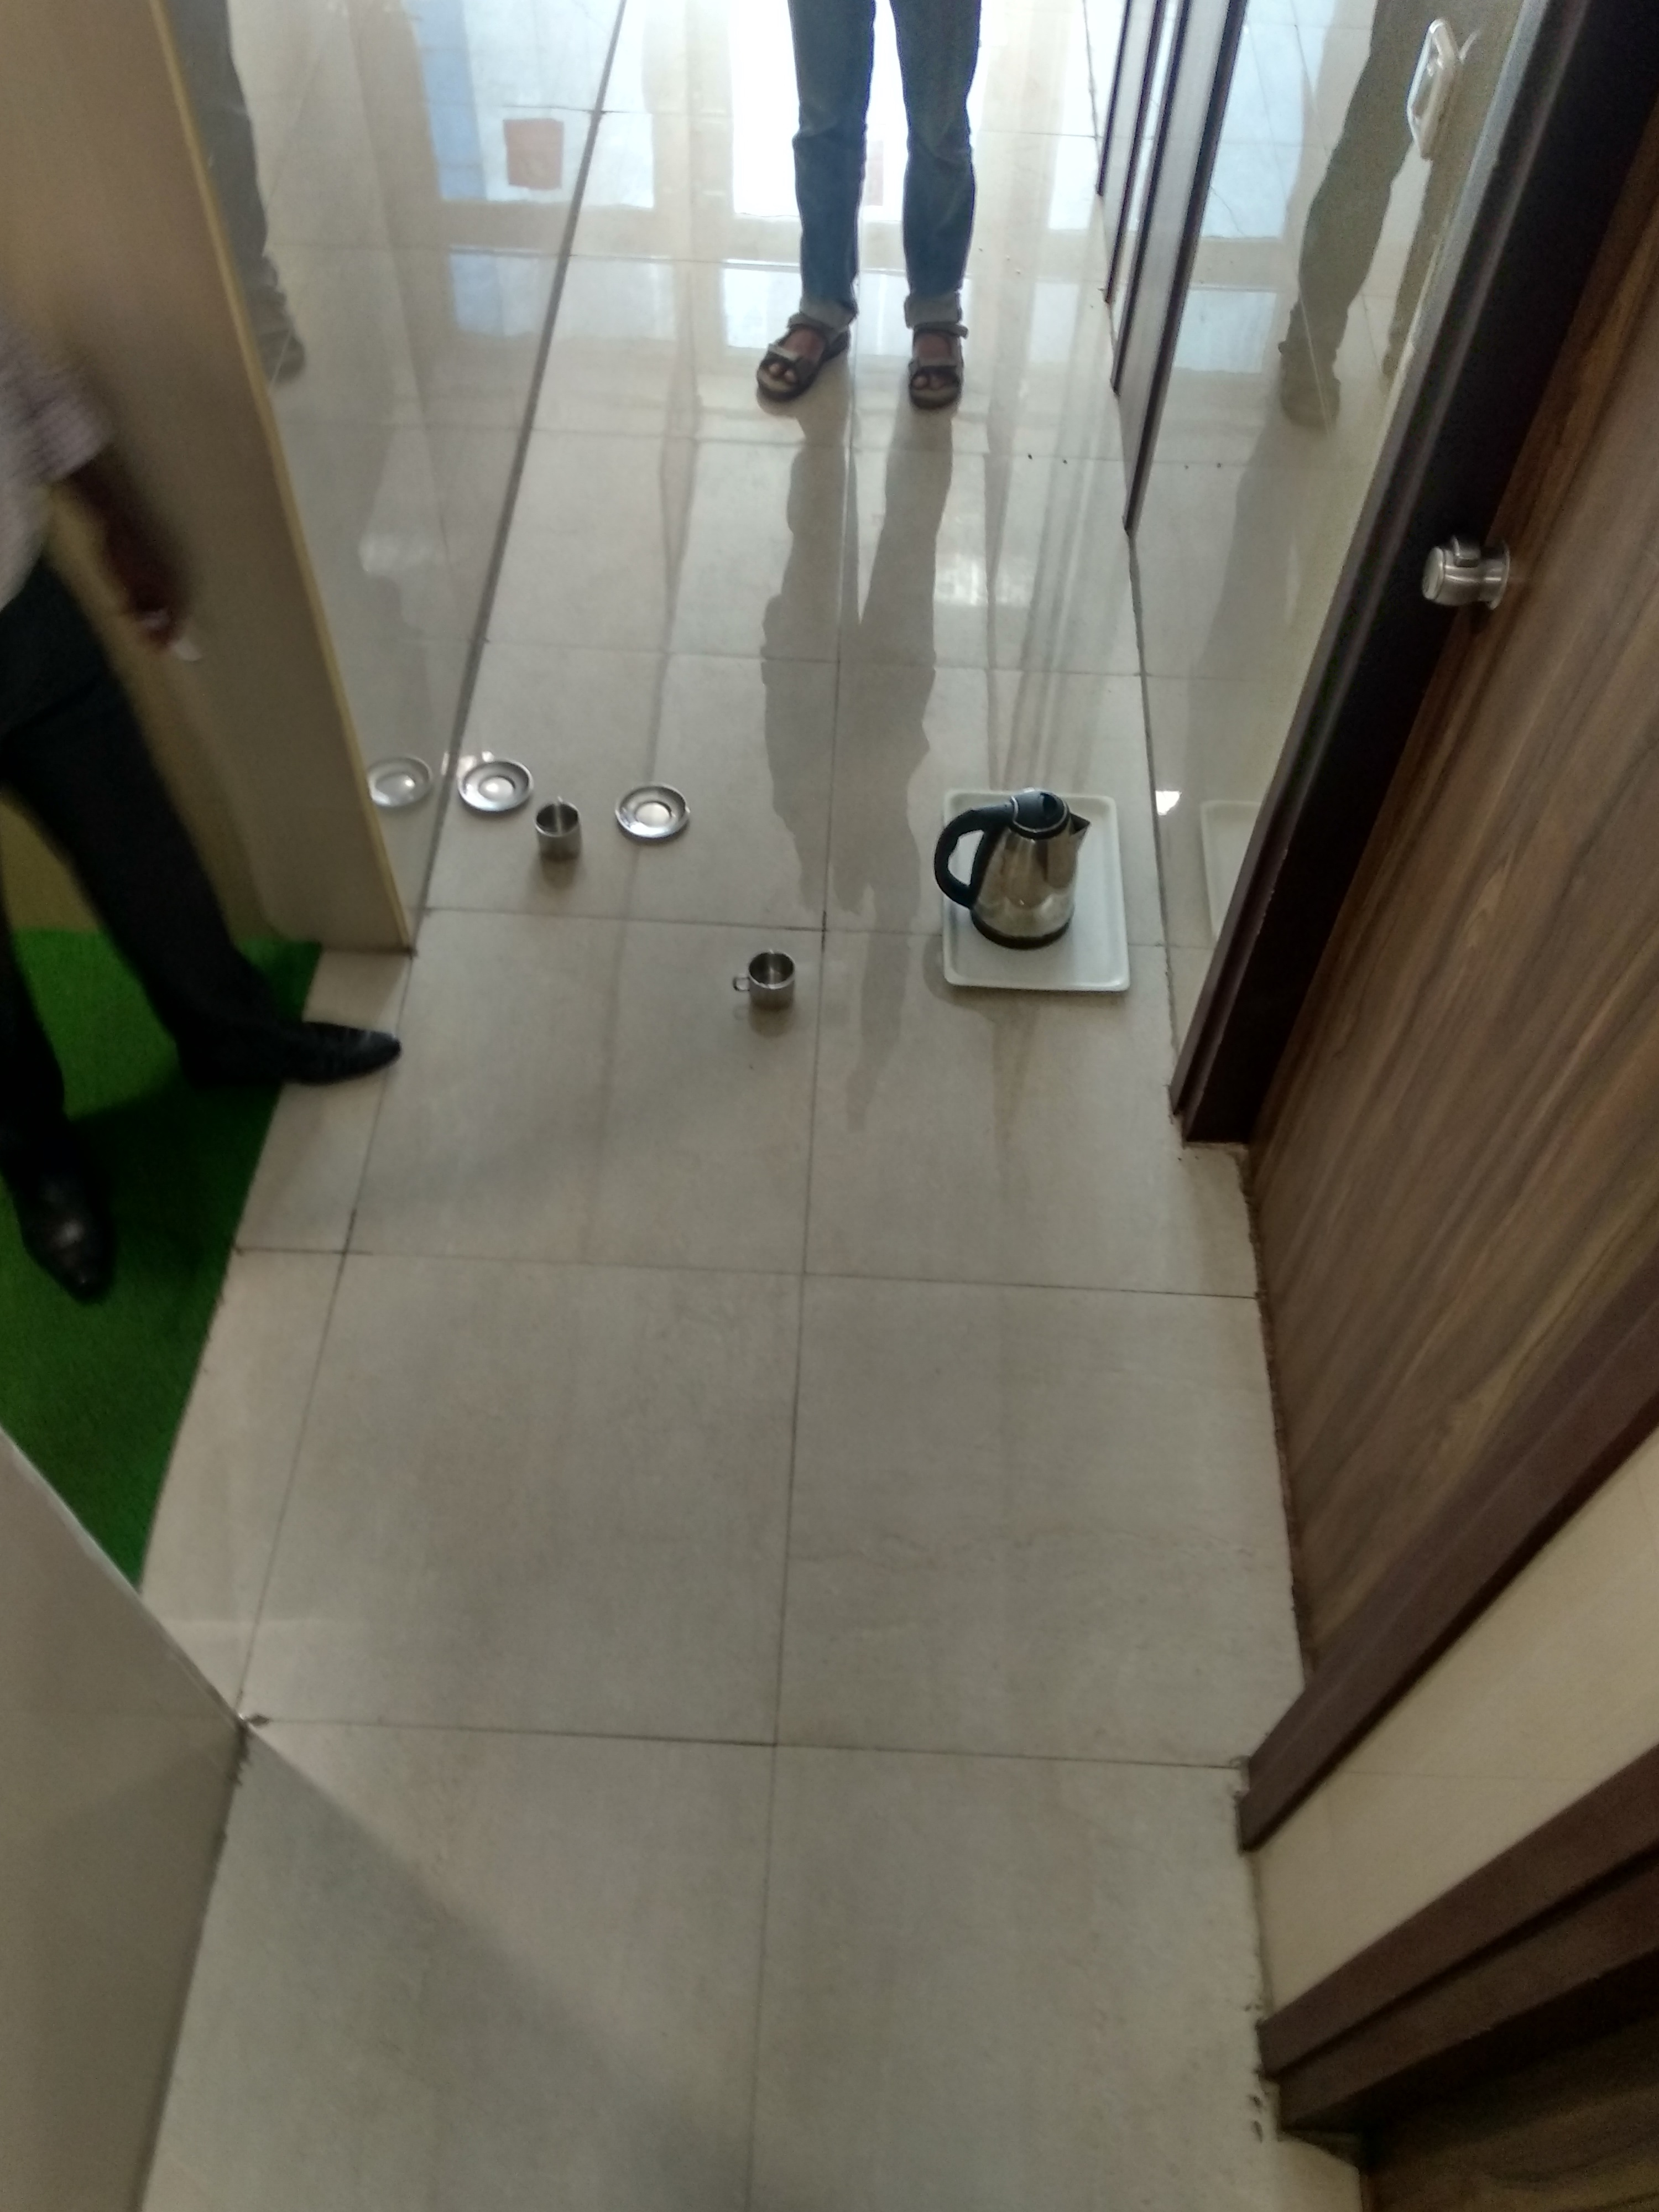CUP: (735, 954, 803, 1019), (526, 799, 587, 864)
FLASK: (974, 791, 1089, 949)
